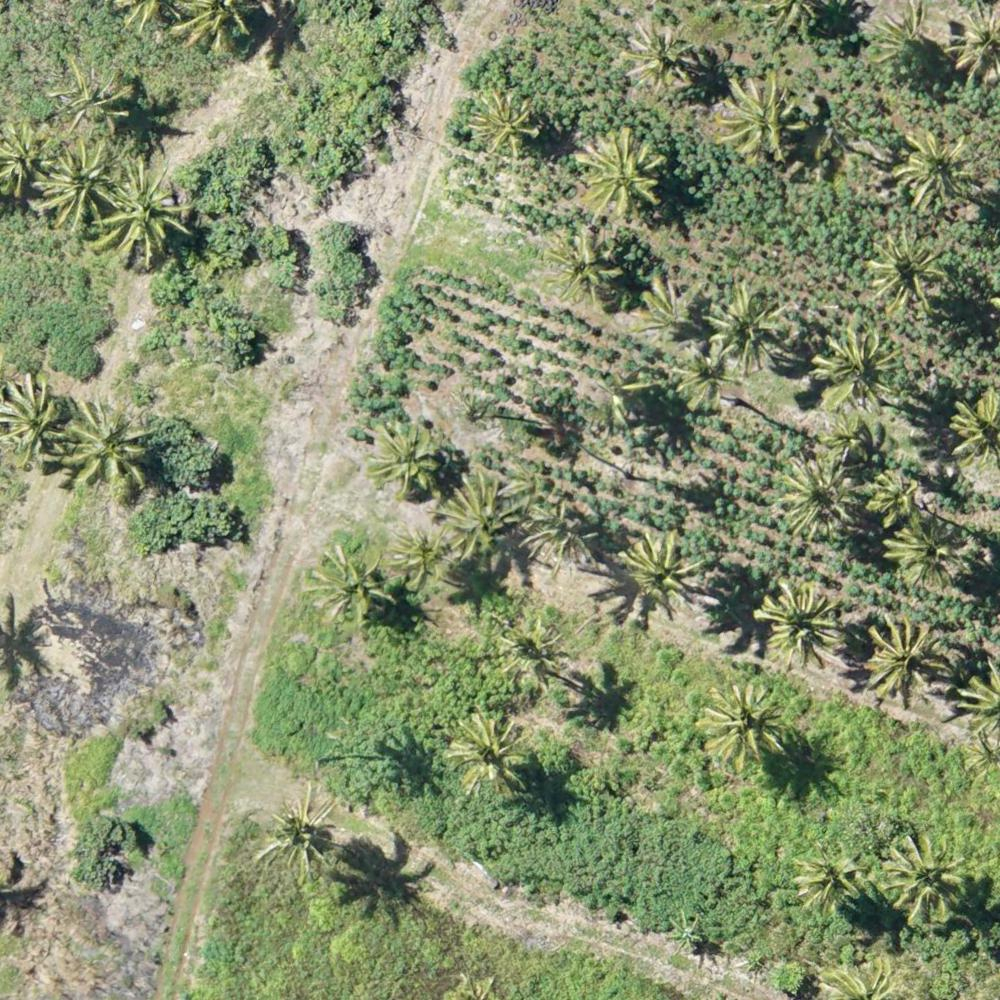Palm: (100, 160, 187, 256), (64, 399, 152, 491), (867, 613, 950, 708), (574, 133, 659, 224), (756, 576, 843, 663), (38, 142, 122, 231), (815, 330, 901, 416), (617, 531, 705, 615), (253, 797, 339, 881), (449, 710, 535, 794), (701, 683, 787, 767), (889, 514, 973, 599), (879, 840, 969, 919), (305, 543, 396, 621), (722, 73, 806, 156), (711, 285, 791, 371), (445, 471, 529, 552), (903, 129, 983, 213), (622, 16, 700, 96), (778, 455, 855, 535), (869, 233, 950, 309), (4, 376, 70, 464), (370, 416, 445, 493), (55, 60, 132, 133), (549, 226, 624, 300), (530, 495, 601, 572), (496, 616, 567, 689), (472, 91, 545, 159), (789, 856, 867, 914), (636, 277, 702, 340), (675, 348, 735, 415), (879, 2, 937, 67), (389, 527, 443, 584), (870, 468, 918, 523), (820, 415, 874, 463)
